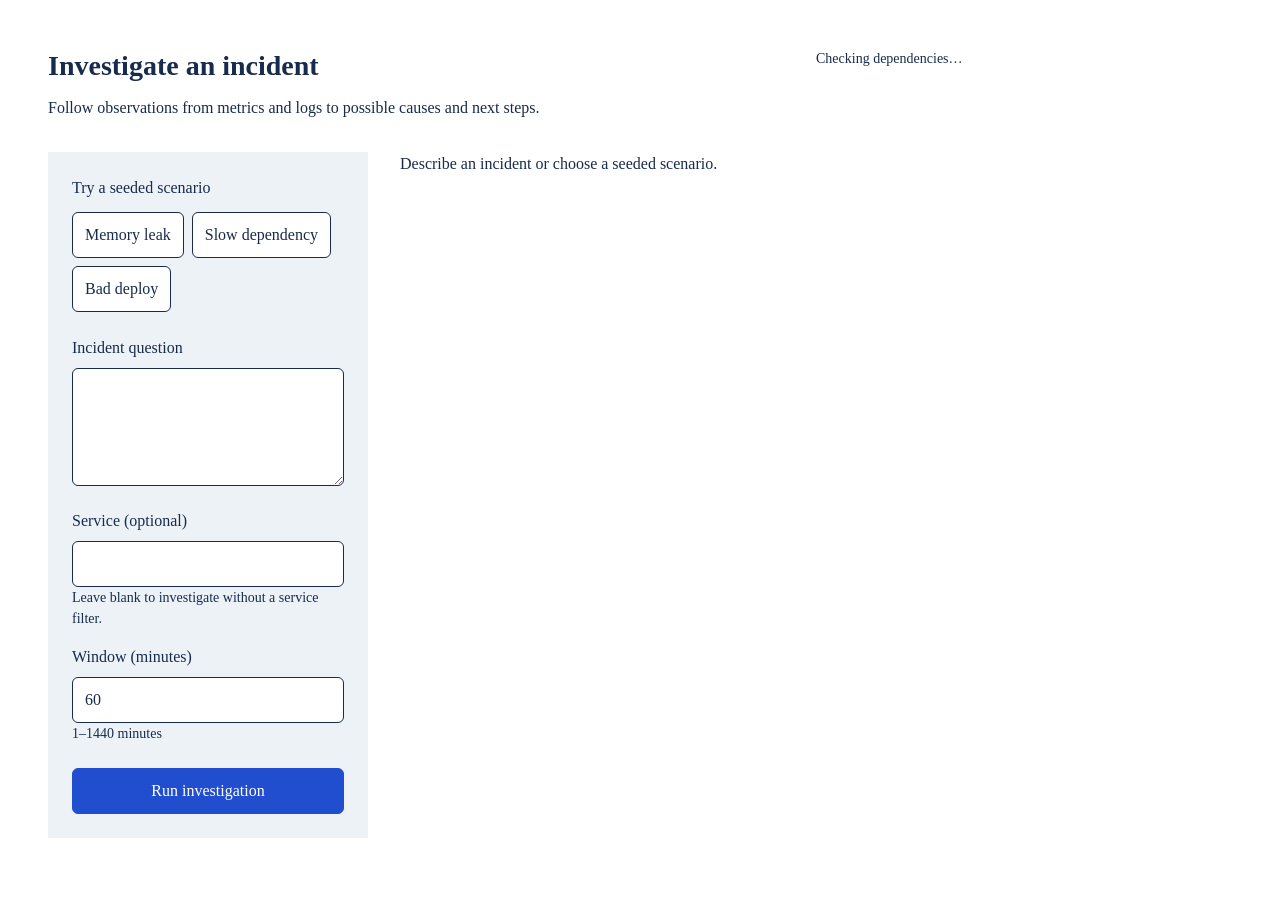
it: markup and markdown from all model fields stay literal and never become elements
Click the button "Slow dependency": (261, 235) [192,212,331,258]
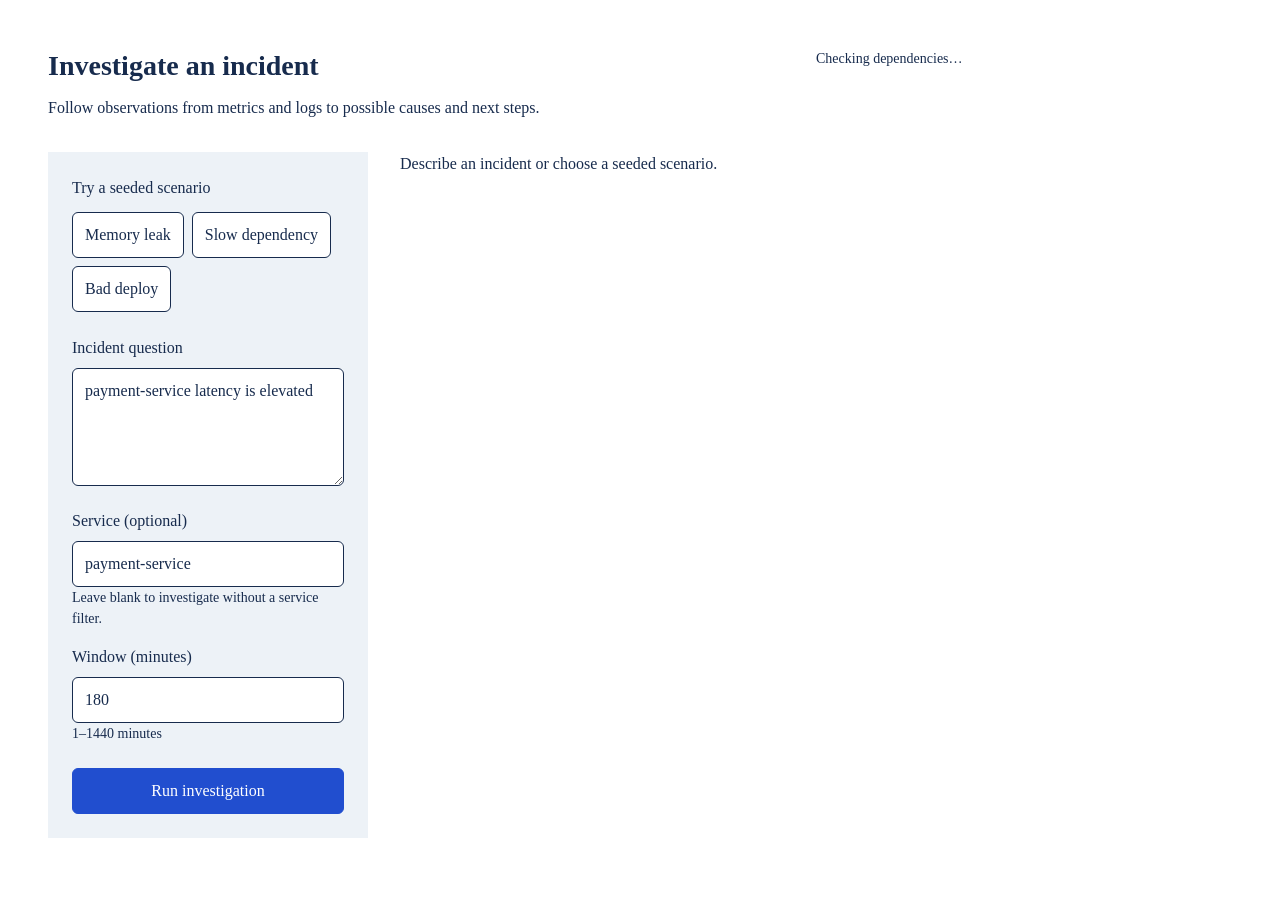
Click the button "Run investigation": (208, 791) [72,768,344,814]
(page scrolled)
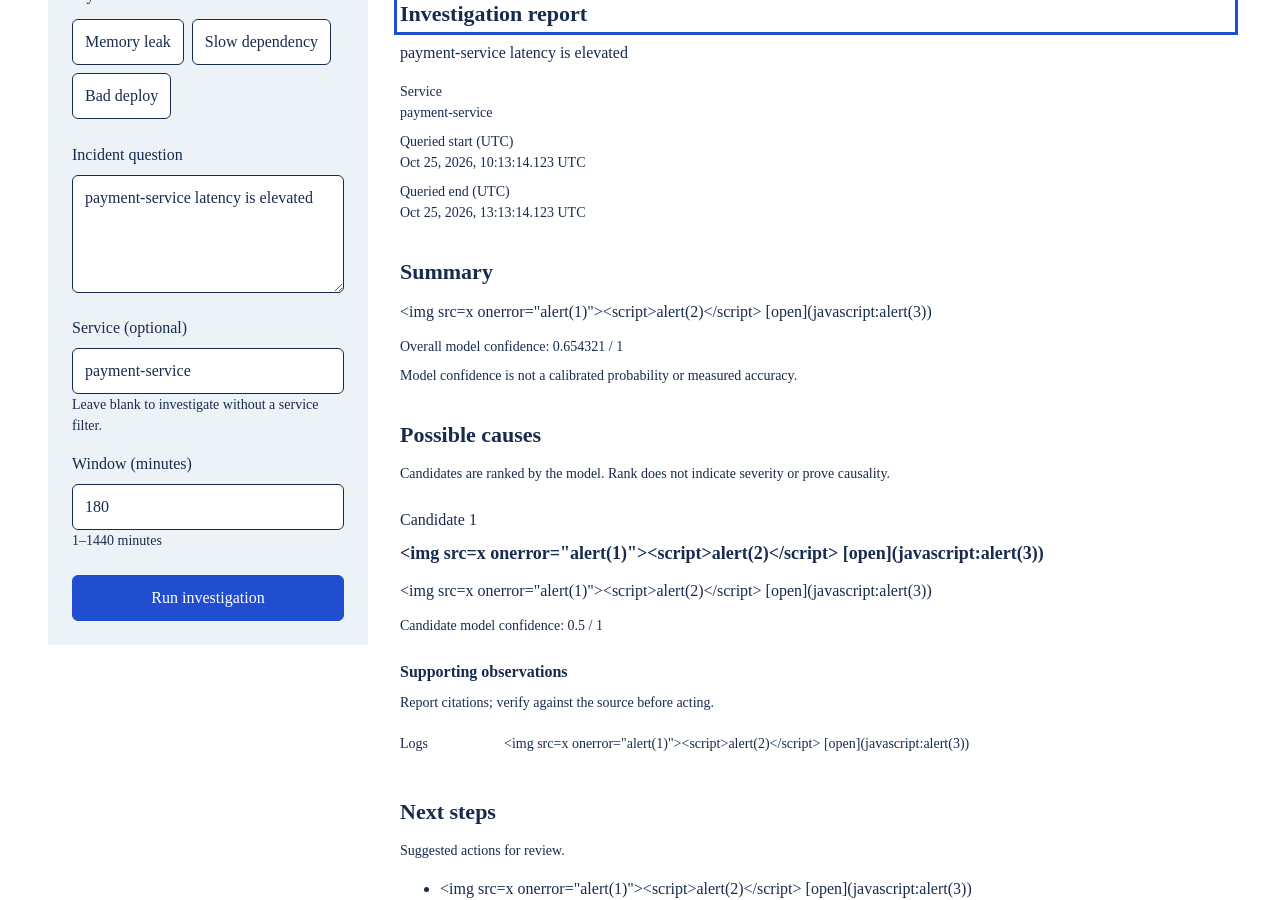
expect the element named "Investigation result" does not show "private-extra-canary": met, box [400,1,1044,897]
expect the heading "Investigation report" is shown: met, box [400,1,587,26]
expect the text "<img src=x onerror=\"alert(1)\"><script>alert(2)</script> [open](javascript:alert(3))" is shown 5 times: met, box [400,300,976,324]; [400,543,1044,563]; [400,579,976,603]; [504,733,1008,755]; [440,880,972,897]
